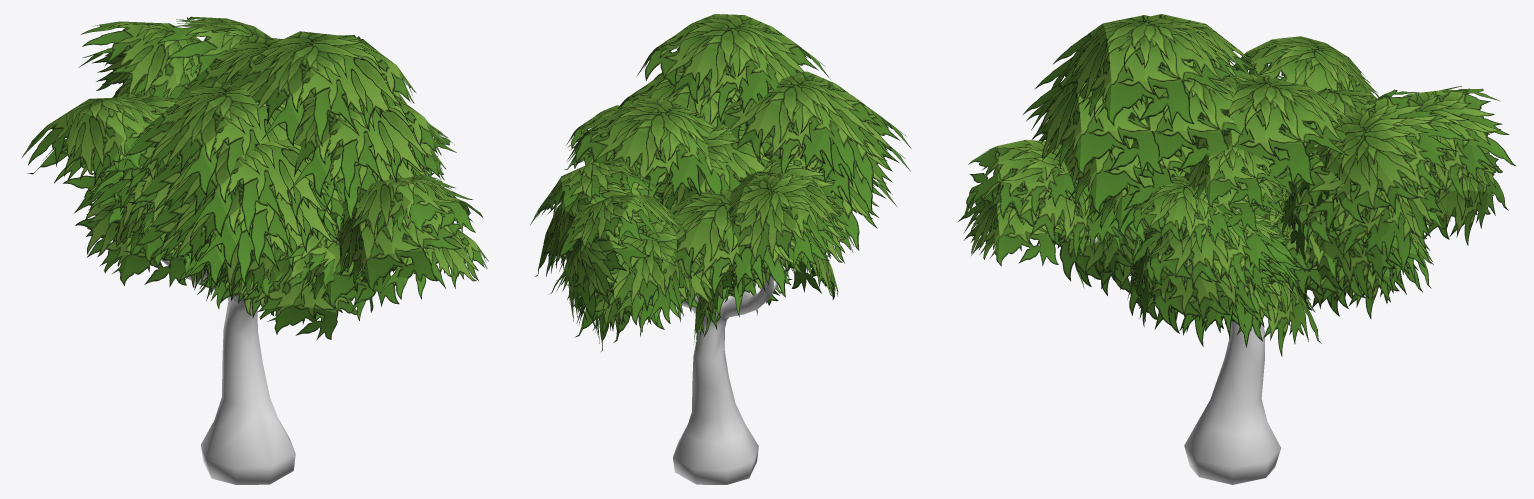
File: Model_Environment_Tree1_LeafTEST.fbx
3 renders of one model, left to right at view 1: azimuth 30°, elevation 25°; view 2: azimuth 150°, elevation 25°; view 3: azimuth 270°, elevation 25°, orthographic. The views are drawn at different scales.
Visible parts, largest first — view 1: Texture_Tree_leaves1.003, Model_Environment_Tree1, Texture_Tree_leaves1.009, Texture_Tree_leaves1.010, Texture_Tree_leaves1.004, Model_Environment_Tree1|Texture_Tree_leaves1|Dupli|38, Model_Environment_Tree1|Texture_Tree_leaves1|Dupli|24, Texture_Tree_leaves1.011, Model_Environment_Tree1|Texture_Tree_leaves1|Dupli|49, Model_Environment_Tree1|Texture_Tree_leaves1|Dupli|37, Model_Environment_Tree1|Texture_Tree_leaves1|Dupli|23, Model_Environment_Tree1|Texture_Tree_leaves1|Dupli|1 (+17 smaller); view 2: Texture_Tree_leaves1.003, Model_Environment_Tree1, Texture_Tree_leaves1.009, Texture_Tree_leaves1.008, Model_Environment_Tree1|Texture_Tree_leaves1|Dupli|24, Texture_Tree_leaves1.013, Model_Environment_Tree1|Texture_Tree_leaves1|Dupli|48, Model_Environment_Tree1|Texture_Tree_leaves1|Dupli|47, Model_Environment_Tree1|Texture_Tree_leaves1|Dupli|49, Model_Environment_Tree1|Texture_Tree_leaves1|Dupli|43, Model_Environment_Tree1|Texture_Tree_leaves1|Dupli|35, Texture_Tree_leaves1.010 (+13 smaller); view 3: Texture_Tree_leaves1.003, Model_Environment_Tree1|Texture_Tree_leaves1|Dupli|35, Model_Environment_Tree1, Texture_Tree_leaves1.008, Texture_Tree_leaves1.004, Model_Environment_Tree1|Texture_Tree_leaves1|Dupli|37, Model_Environment_Tree1|Texture_Tree_leaves1|Dupli|36, Model_Environment_Tree1|Texture_Tree_leaves1|Dupli|4, Model_Environment_Tree1|Texture_Tree_leaves1|Dupli|49, Texture_Tree_leaves1.005, Model_Environment_Tree1|Texture_Tree_leaves1|Dupli|24, Model_Environment_Tree1|Texture_Tree_leaves1|Dupli|28 (+24 smaller).
Part boxes in pixels (<box>): Texture_Tree_leaves1.003: <box>229,31,416,146</box>; Model_Environment_Tree1: <box>112,162,295,484</box>; Texture_Tree_leaves1.009: <box>113,81,297,196</box>; Texture_Tree_leaves1.010: <box>128,139,343,237</box>; Texture_Tree_leaves1.004: <box>288,93,443,198</box>; Model_Environment_Tree1|Texture_Tree_leaves1|Dupli|38: <box>335,172,473,292</box>; Model_Environment_Tree1|Texture_Tree_leaves1|Dupli|24: <box>21,96,162,176</box>; Texture_Tree_leaves1.011: <box>137,182,347,268</box>; Model_Environment_Tree1|Texture_Tree_leaves1|Dupli|49: <box>80,21,201,98</box>; Model_Environment_Tree1|Texture_Tree_leaves1|Dupli|37: <box>323,177,482,234</box>; Model_Environment_Tree1|Texture_Tree_leaves1|Dupli|23: <box>62,164,191,287</box>; Model_Environment_Tree1|Texture_Tree_leaves1|Dupli|1: <box>237,255,357,340</box>; Texture_Tree_leaves1.003: <box>636,14,830,122</box>; Model_Environment_Tree1: <box>673,260,786,484</box>; Texture_Tree_leaves1.009: <box>723,71,892,179</box>; Texture_Tree_leaves1.008: <box>567,98,735,197</box>; Model_Environment_Tree1|Texture_Tree_leaves1|Dupli|24: <box>728,171,841,271</box>; Texture_Tree_leaves1.013: <box>669,190,823,297</box>; Model_Environment_Tree1|Texture_Tree_leaves1|Dupli|48: <box>568,213,693,324</box>; Model_Environment_Tree1|Texture_Tree_leaves1|Dupli|47: <box>566,212,658,330</box>; Model_Environment_Tree1|Texture_Tree_leaves1|Dupli|49: <box>552,194,686,264</box>; Model_Environment_Tree1|Texture_Tree_leaves1|Dupli|43: <box>645,124,778,209</box>; Model_Environment_Tree1|Texture_Tree_leaves1|Dupli|35: <box>530,159,662,225</box>; Texture_Tree_leaves1.010: <box>765,105,911,192</box>; Texture_Tree_leaves1.003: <box>1052,15,1240,126</box>; Model_Environment_Tree1|Texture_Tree_leaves1|Dupli|35: <box>1301,89,1470,229</box>; Model_Environment_Tree1: <box>1088,209,1280,484</box>; Texture_Tree_leaves1.008: <box>1194,76,1348,187</box>; Texture_Tree_leaves1.004: <box>1023,73,1202,176</box>; Model_Environment_Tree1|Texture_Tree_leaves1|Dupli|37: <box>968,139,1123,260</box>; Model_Environment_Tree1|Texture_Tree_leaves1|Dupli|36: <box>1293,141,1450,274</box>; Model_Environment_Tree1|Texture_Tree_leaves1|Dupli|4: <box>1133,203,1298,289</box>; Model_Environment_Tree1|Texture_Tree_leaves1|Dupli|49: <box>1400,86,1515,201</box>; Texture_Tree_leaves1.005: <box>1131,77,1242,176</box>; Model_Environment_Tree1|Texture_Tree_leaves1|Dupli|24: <box>1233,36,1378,97</box>; Model_Environment_Tree1|Texture_Tree_leaves1|Dupli|28: <box>1130,205,1299,326</box>.
Bounding box in the file's own units: 1117 × 1340 × 1485.
